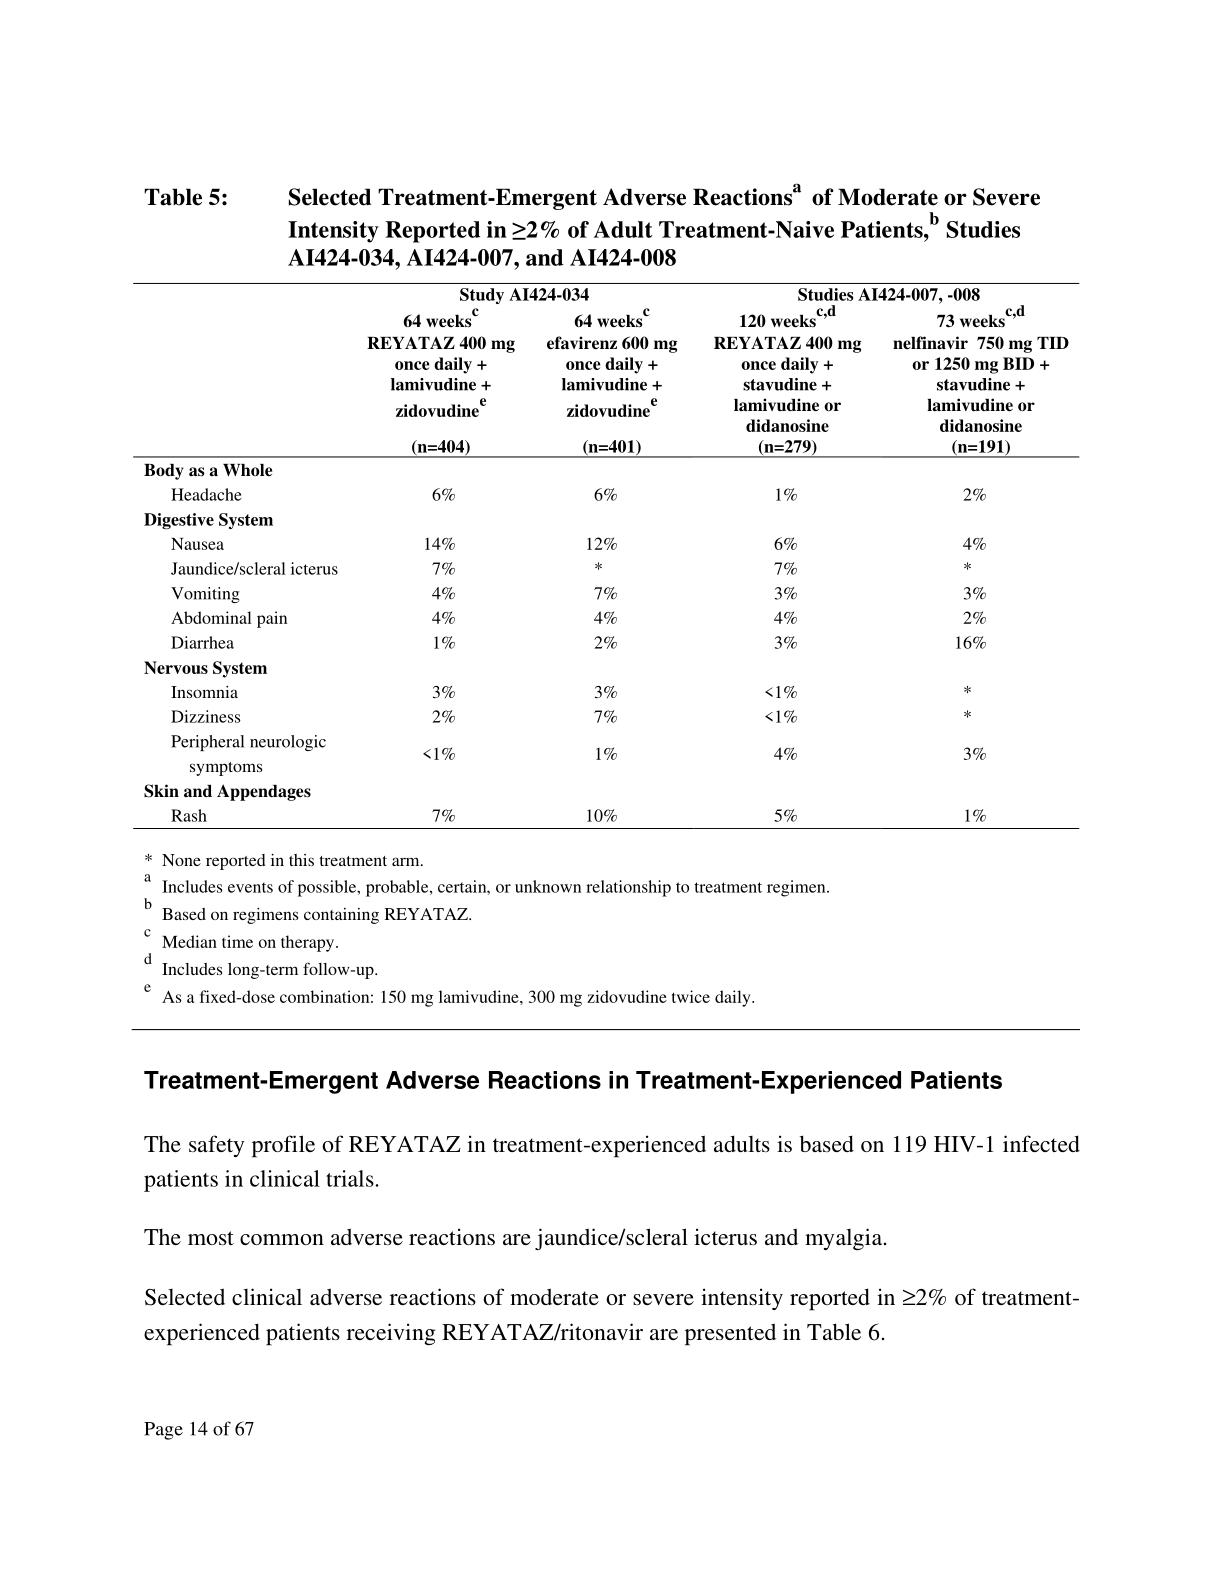partial_lined_merged_cells: (131, 280, 1083, 832)
